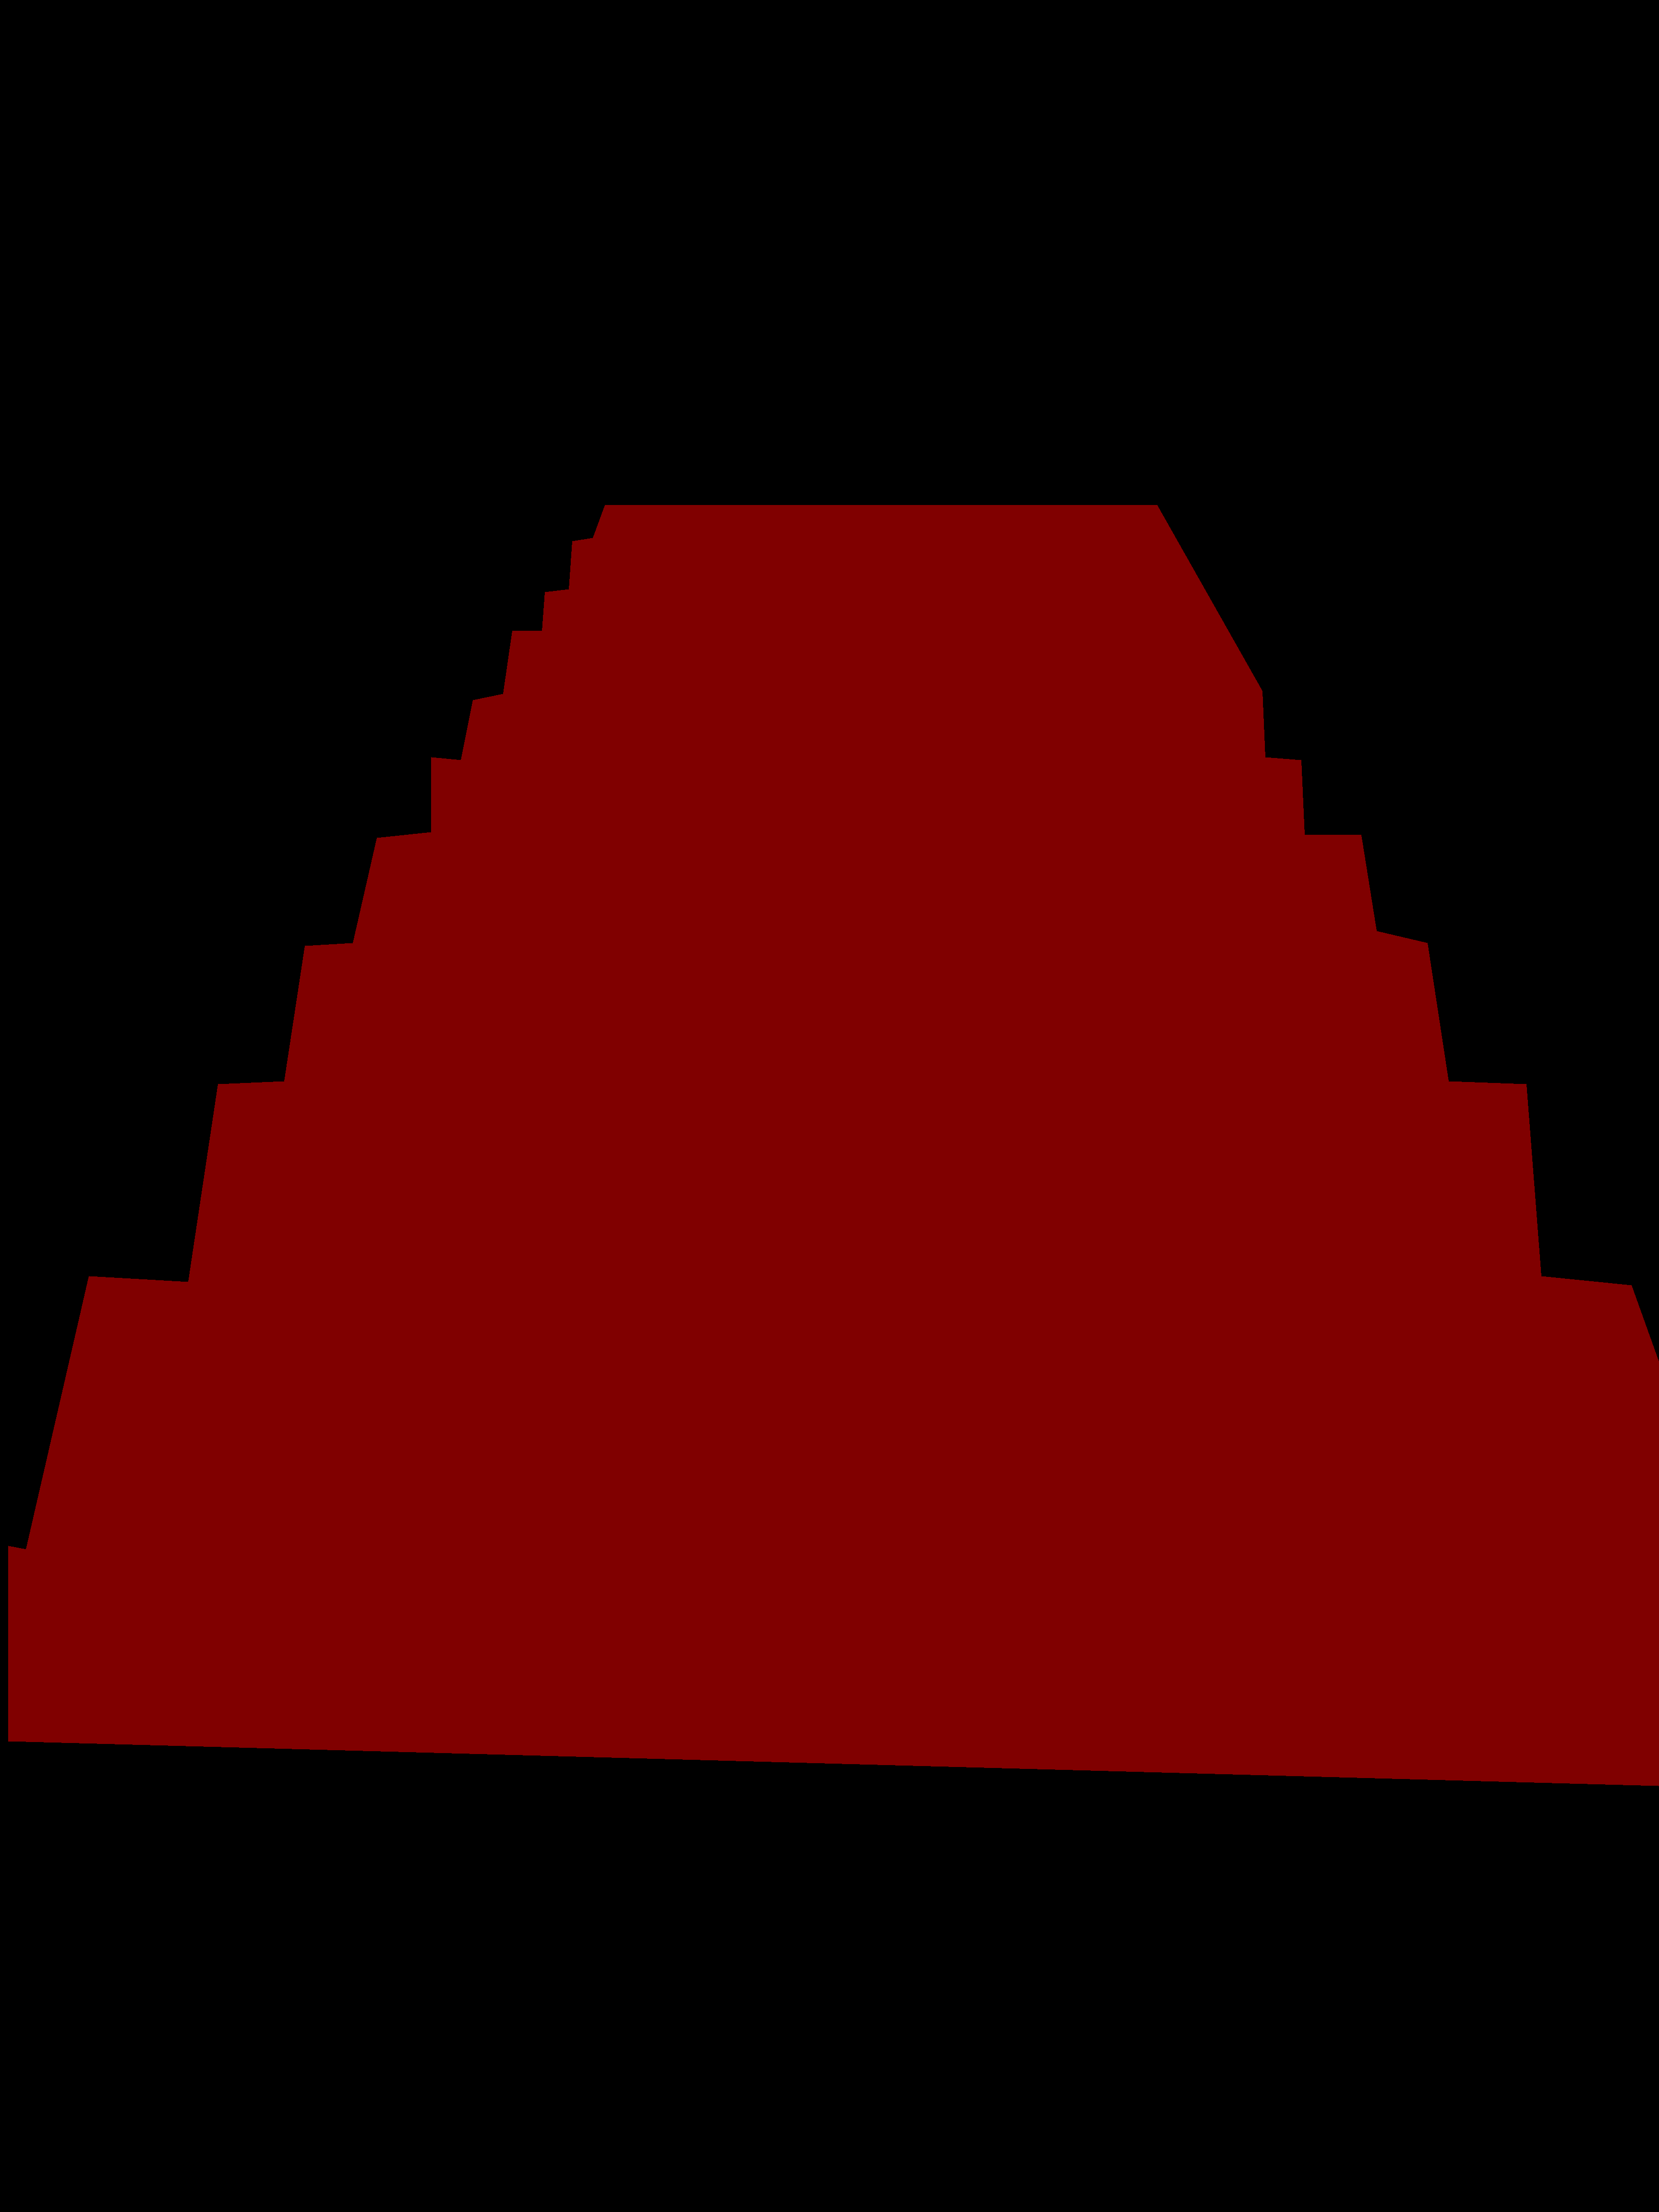stair: (9, 505, 1659, 1785)
